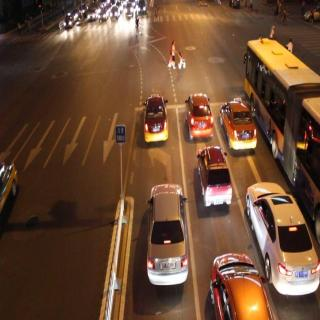BigCar: (250, 38, 320, 172)
Car: (245, 183, 320, 288), (144, 182, 189, 284), (208, 253, 268, 320), (195, 144, 233, 208), (220, 100, 257, 150), (142, 91, 169, 142), (185, 93, 214, 138), (63, 12, 74, 29), (124, 4, 134, 20), (100, 8, 108, 23), (111, 6, 119, 20), (88, 10, 96, 22)
